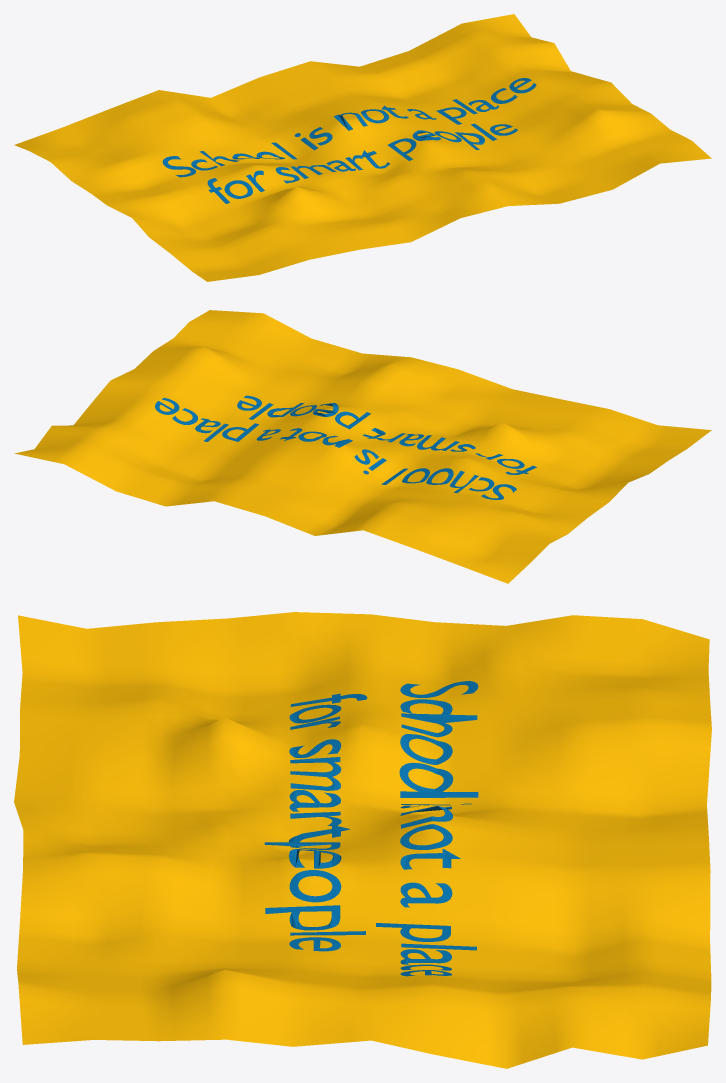
The model's file is papertext1.fbx.
3 views of the same model, one above another, from view 1: azimuth 30°, elevation 25°; view 2: azimuth 150°, elevation 25°; view 3: azimuth 270°, elevation 25° (orthographic). The views are drawn at different scales.
Visible parts, largest first — view 1: Plane, Text; view 2: Plane, Text; view 3: Plane, Text.
Boxes of the visible parts, x1,y1,x2,y2 form: Plane: (14,14,711,281); Text: (162,78,536,203); Plane: (14,310,711,583); Text: (155,395,536,499); Plane: (14,612,711,1068); Text: (264,681,478,976).
Size of the model in its own units: 134 by 9.14 by 91.91.
